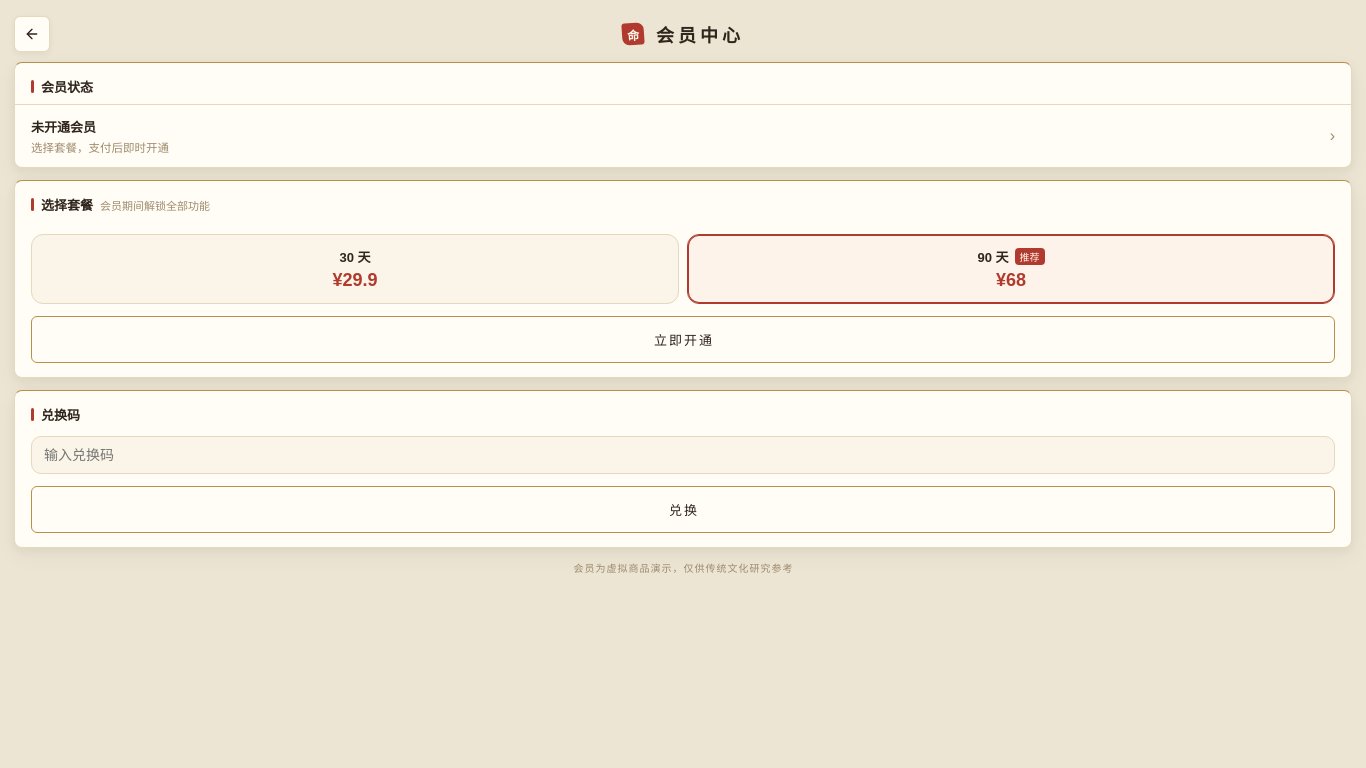
MembershipPage 会员中心 › 购买时 401：清除本地登录态并提示重新登录
Check: the text "未开通会员" is shown, box [31,120,96,135]
Click the button "立即开通".
click(683, 340)  # box [31,316,1335,363]
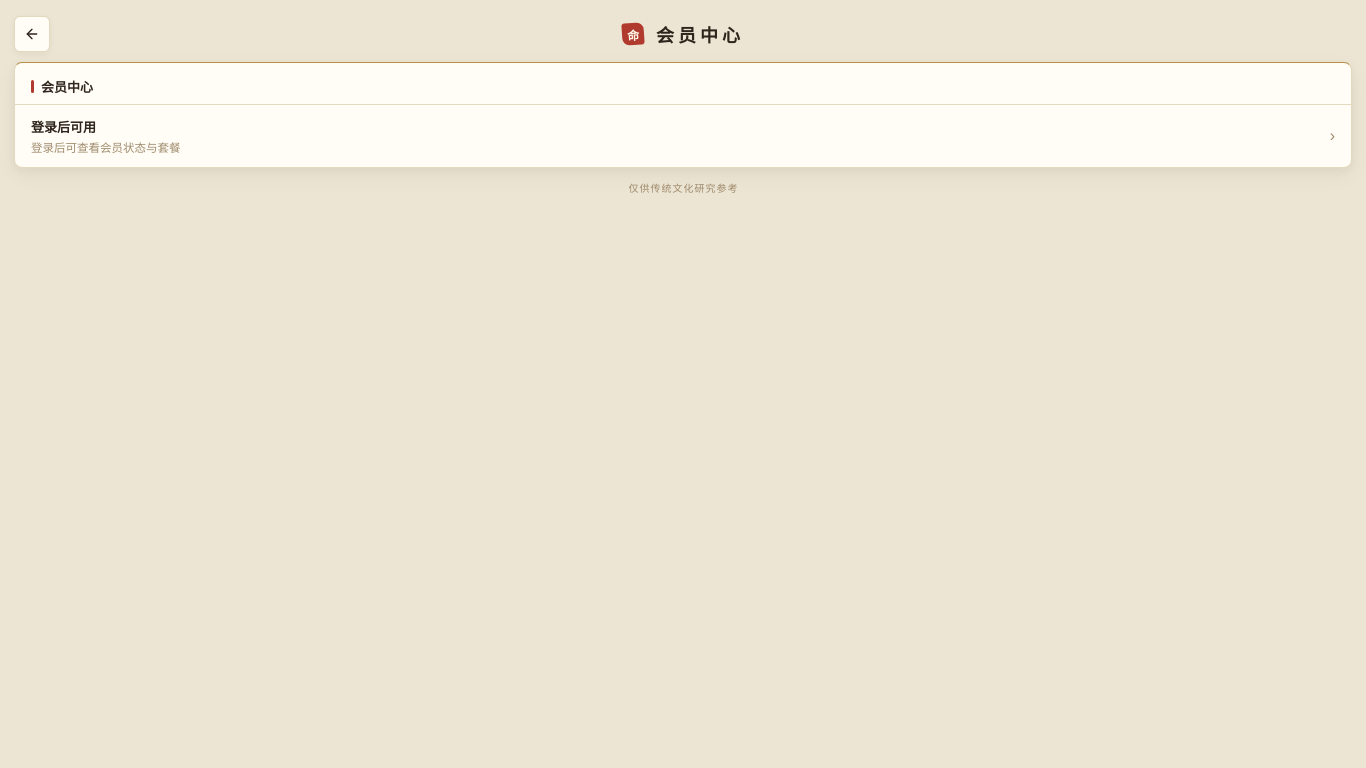
Check: the text "登录后可用" is shown, box [31,120,96,135]
